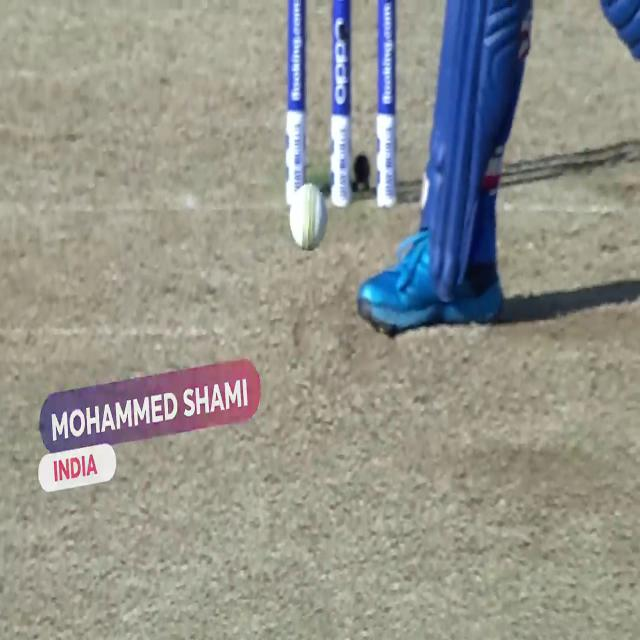ball: (288, 184, 330, 251)
